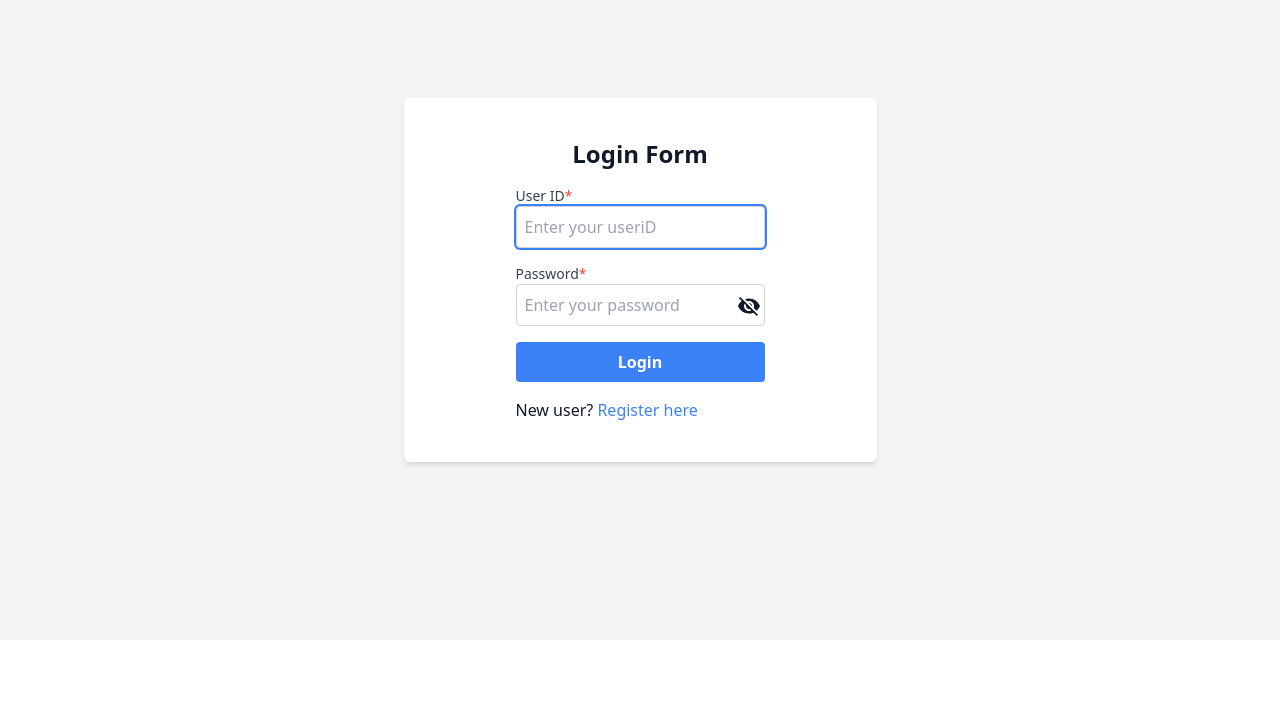
it: LoginForm component › displays error messages when fields are empty
Click the button with test id "login-button". click: (640, 362)
box: [516,342,764,382]
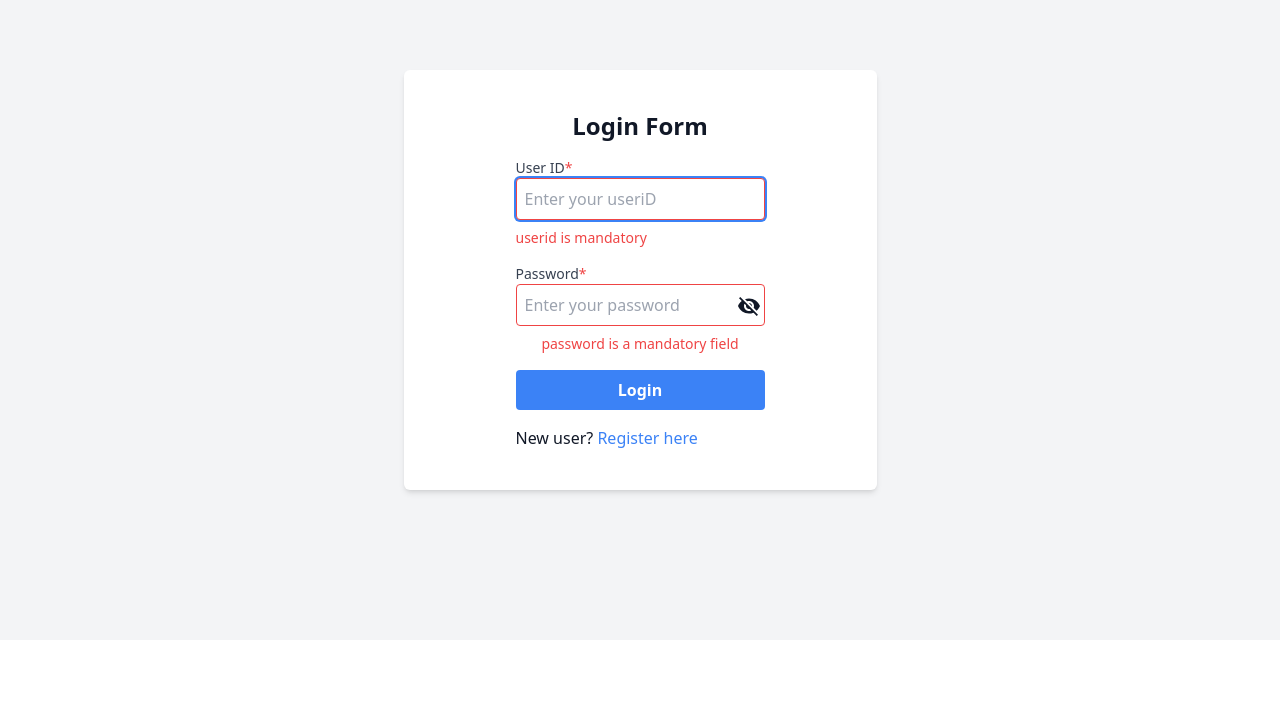
Expected: the text "userid is mandatory" is shown, [516,228,647,247]
Expected: the text "password is a mandatory field" is shown, [541,334,739,353]
